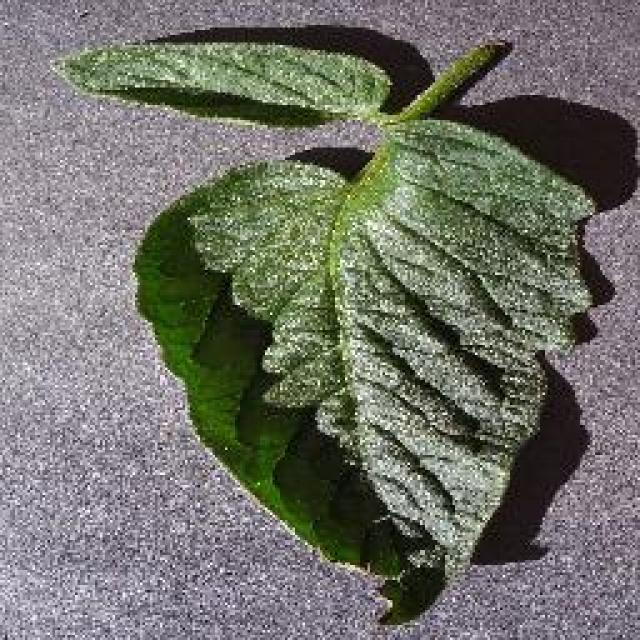Tomato___healthy: (44, 27, 603, 625)
